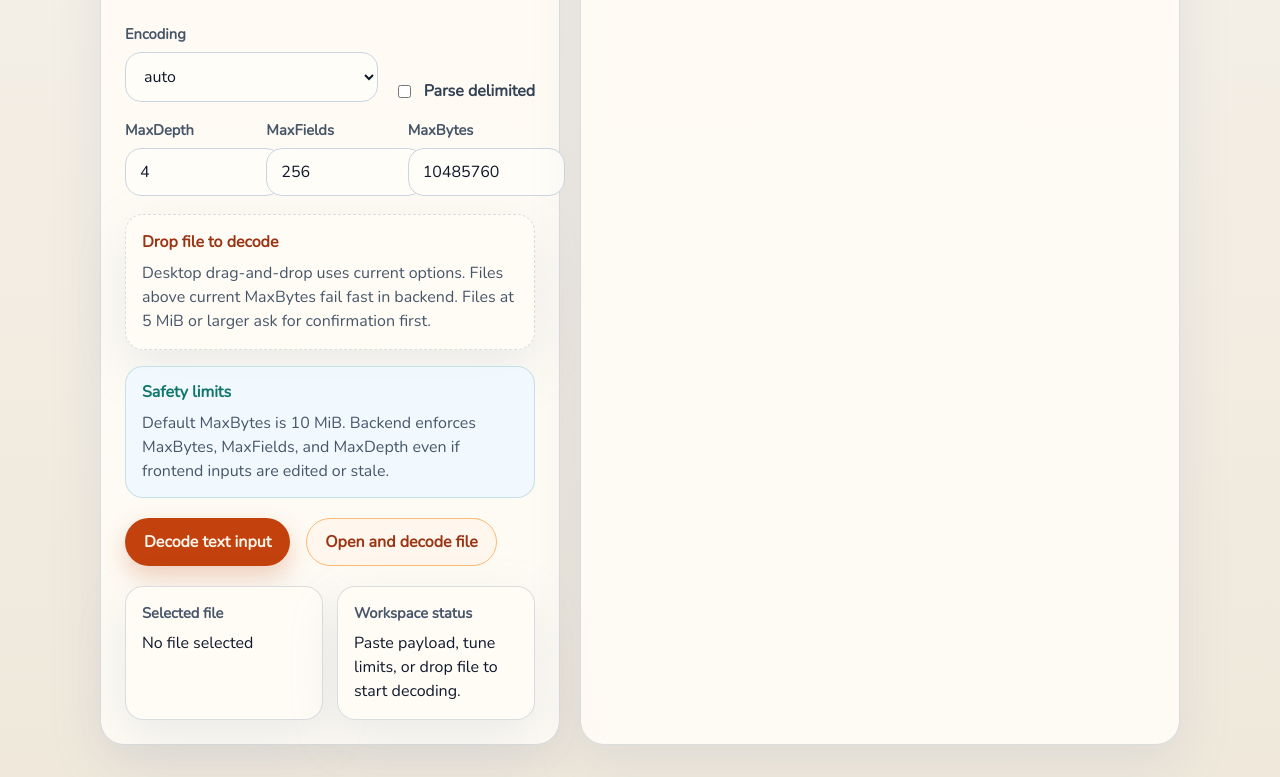
Scenario: App › asks for large file confirmation before DecodeFile
(page scrolled)
Click the button "Open and decode file". click: [402, 542]
box: [306, 518, 497, 566]
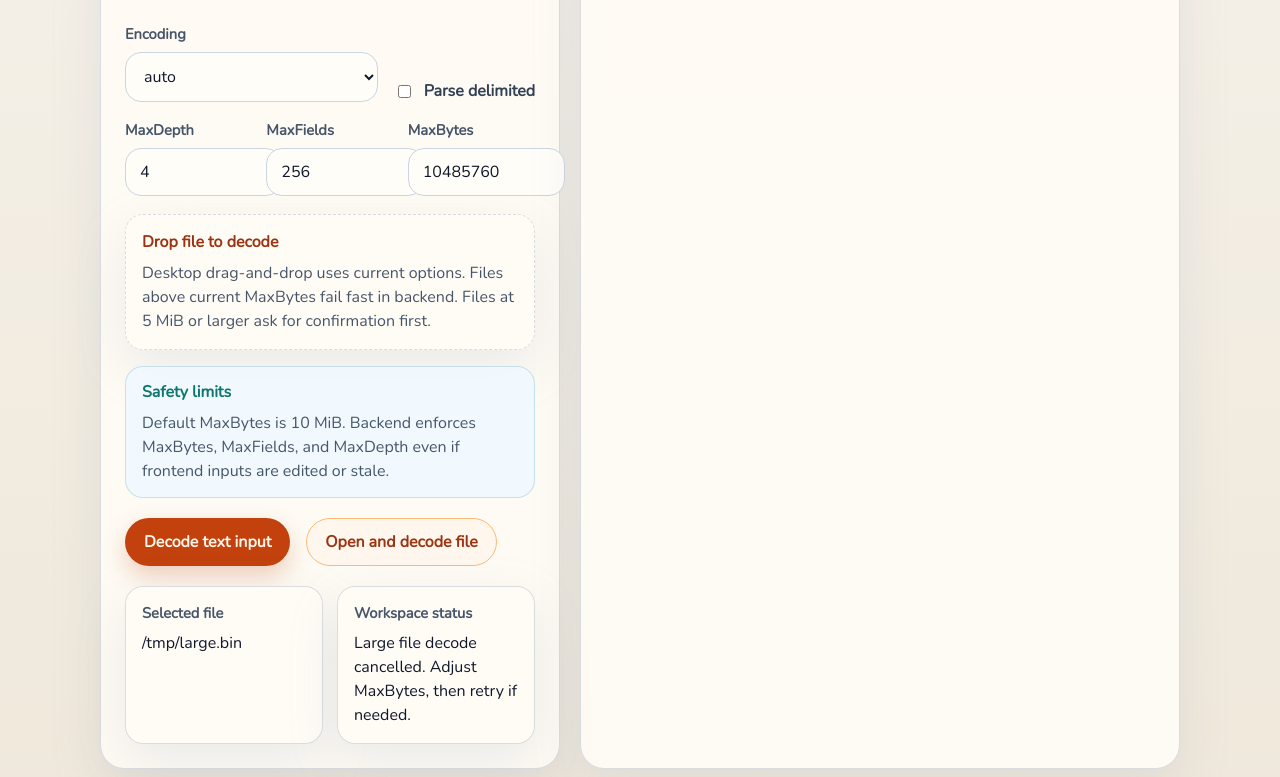
Expected: the text "Large file decode cancelled. Adjust MaxBytes, then retry if needed." is shown, [354, 631, 518, 727]
